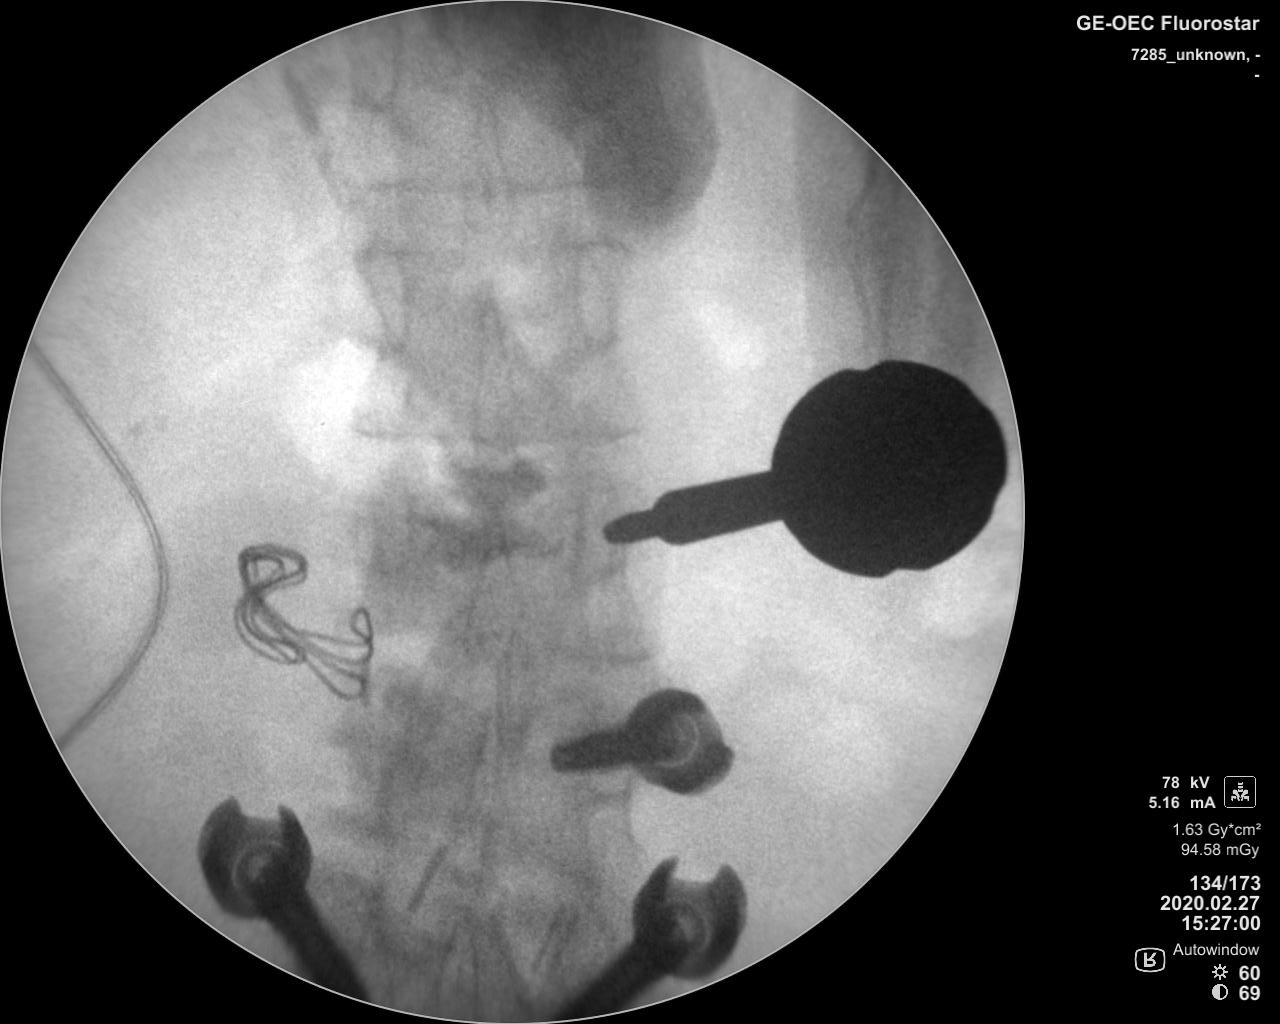eyes: (362, 257, 414, 354), (571, 247, 619, 350), (348, 21, 399, 104)
line: (345, 418, 648, 448), (349, 173, 590, 196), (360, 239, 592, 261)
nose: (456, 83, 517, 235), (464, 513, 526, 664), (464, 282, 520, 446)
